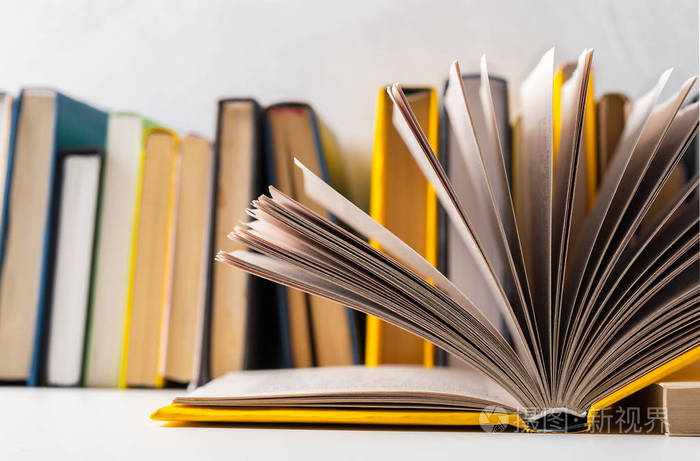book: (152, 43, 700, 439)
